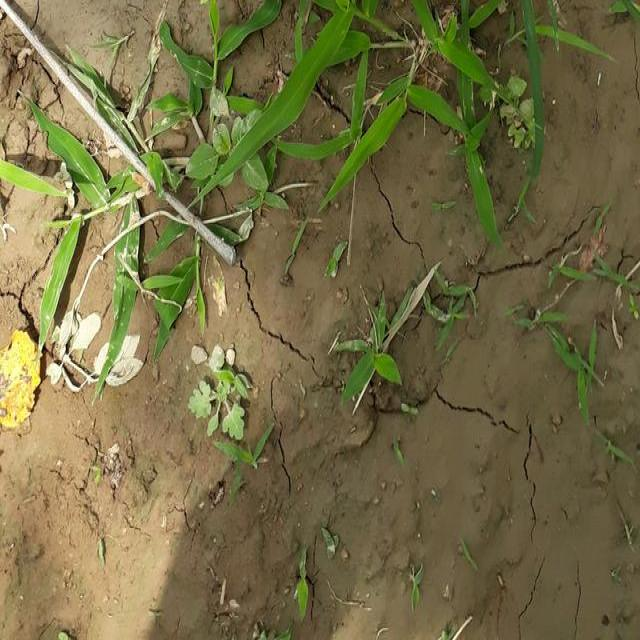weed: (86, 0, 532, 274)
